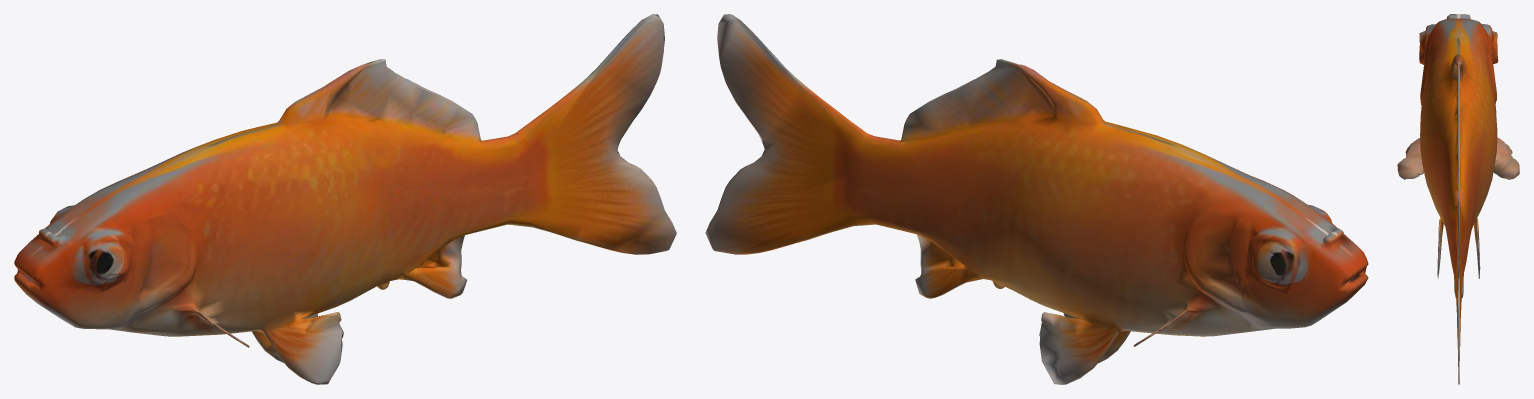
Rendered from wakin.glb.
3 views of the same model, side by side, from view 1: azimuth 30°, elevation 25°; view 2: azimuth 150°, elevation 25°; view 3: azimuth 270°, elevation 25° (orthographic). The views are drawn at different scales.
Visible parts, largest first — view 1: tripo_node_ff195eb9-970b-4ce4-8fc2-47287eee3e3b; view 2: tripo_node_ff195eb9-970b-4ce4-8fc2-47287eee3e3b; view 3: tripo_node_ff195eb9-970b-4ce4-8fc2-47287eee3e3b.
Boxes of the visible parts, x1,y1,x2,y2 form: tripo_node_ff195eb9-970b-4ce4-8fc2-47287eee3e3b: [14, 14, 676, 384]; tripo_node_ff195eb9-970b-4ce4-8fc2-47287eee3e3b: [705, 14, 1368, 384]; tripo_node_ff195eb9-970b-4ce4-8fc2-47287eee3e3b: [1397, 14, 1519, 384].
Bounding box in the file's own units: 0.9995 × 0.4352 × 0.2054.
Materials: 1 (1 with a texture image).
